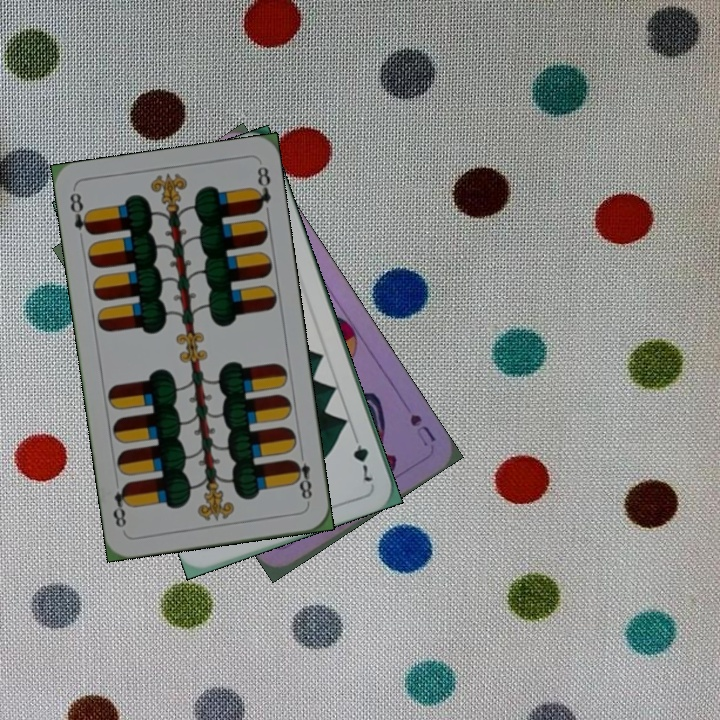E8: (288, 447, 315, 506), (65, 189, 95, 237)
G7: (348, 428, 376, 485)
SU: (406, 410, 439, 449)
